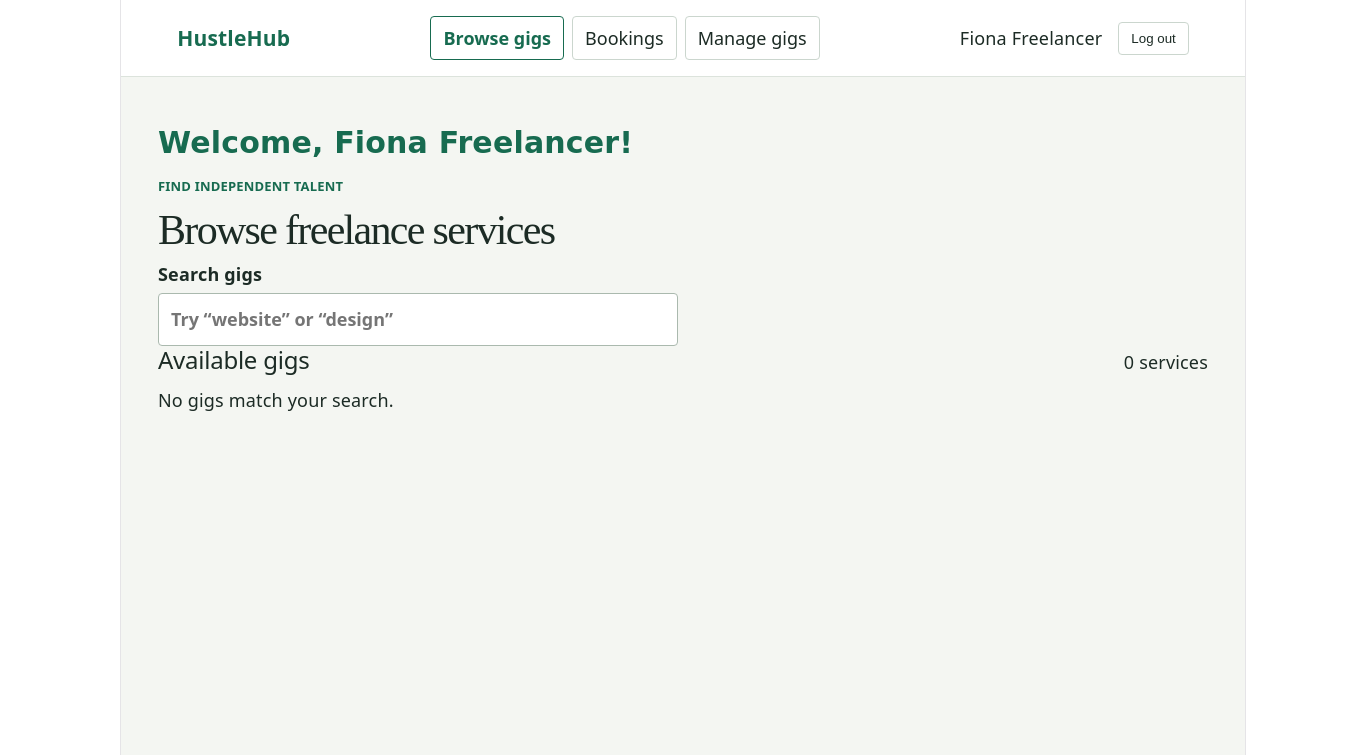
Test: GigBrowser gig management › the freelancer income summary is displayed
Click the button "Manage gigs": (752, 38) [685,16,820,60]
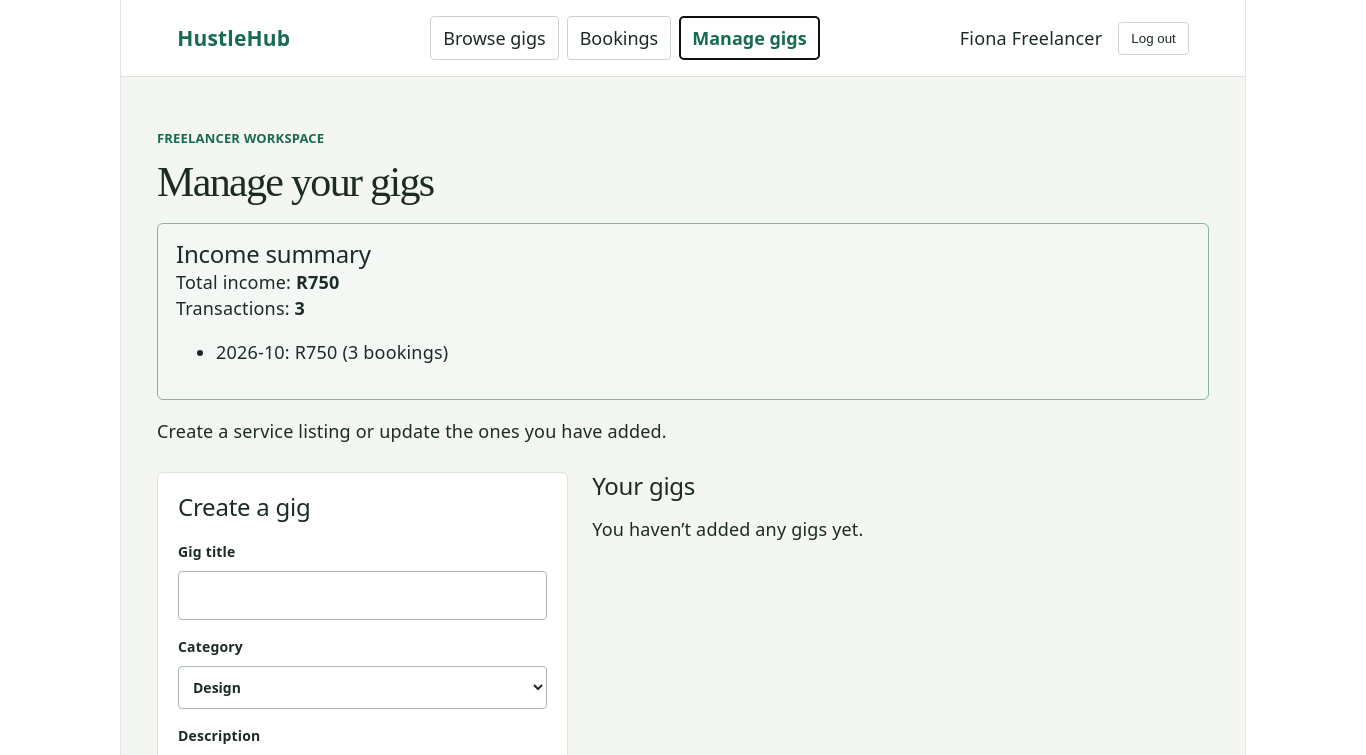
Expected: the text "R750" is shown, [296,270,339,294]
Expected: the list item "2026-10: R750 (3 bookings)" is shown, [216,340,448,364]
